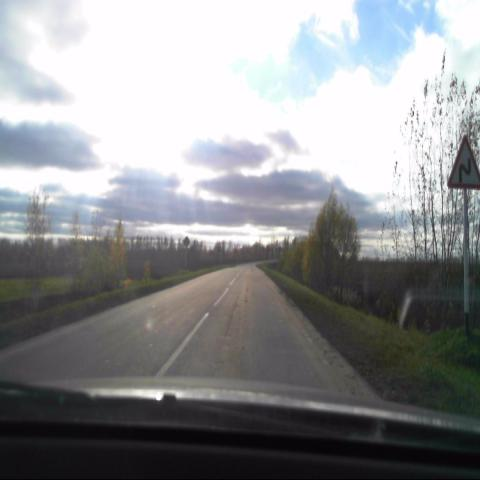1_12: (448, 132, 480, 189)
